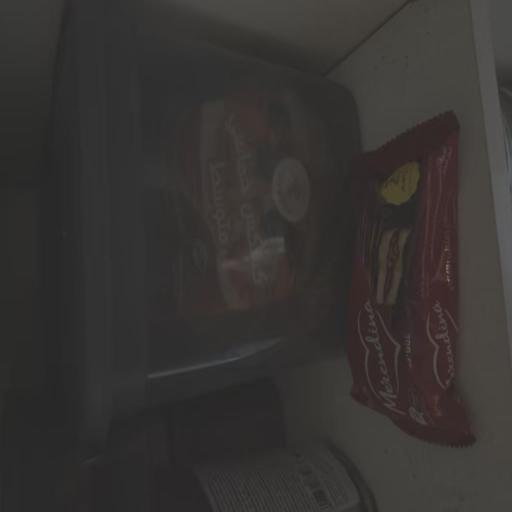merendina: (305, 119, 496, 468)
